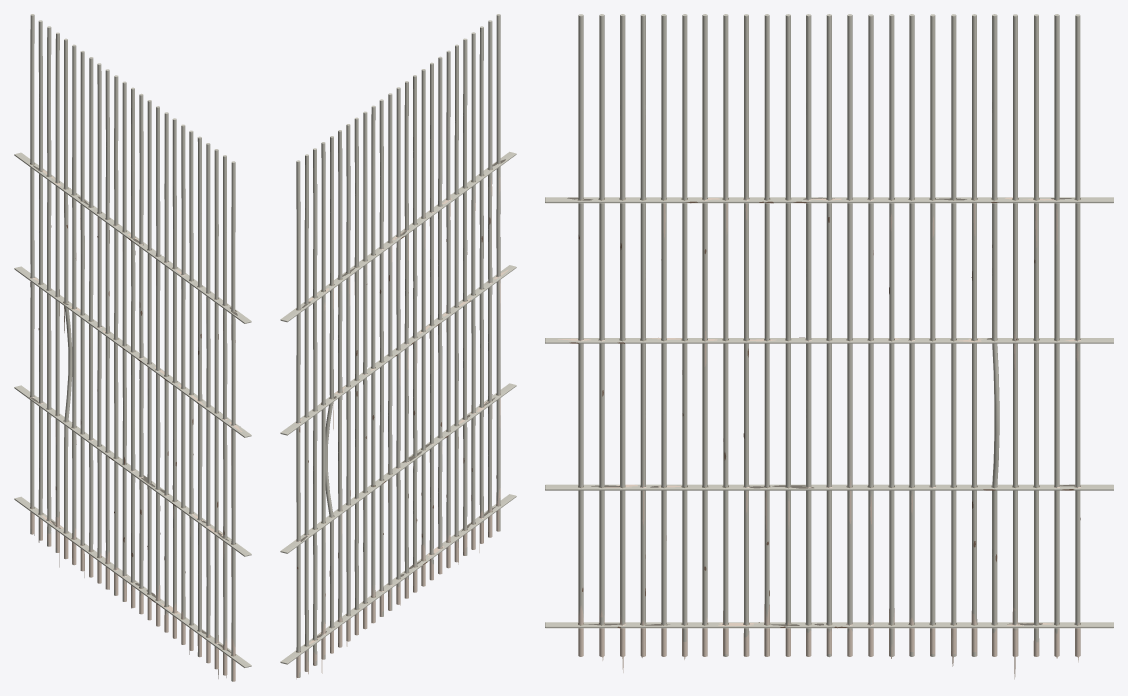
The model's file is bars_w3.glb.
The picture shows the model from 3 angles, left to right: view 1: azimuth 30°, elevation 25°; view 2: azimuth 150°, elevation 25°; view 3: azimuth 270°, elevation 25°; orthographic projection. The views are drawn at different scales.
Visible parts, largest first — view 1: teil, teil.002, teil.004; view 2: teil, teil.002, teil.004; view 3: teil, teil.002, teil.004.
Boxes of the visible parts, x1,y1,x2,y2 form: teil: [14, 14, 251, 681]; teil.002: [30, 170, 242, 681]; teil.004: [30, 163, 235, 656]; teil: [280, 14, 516, 677]; teil.002: [296, 176, 508, 679]; teil.004: [296, 162, 500, 652]; teil: [545, 14, 1113, 656]; teil.002: [558, 197, 1080, 679]; teil.004: [578, 198, 1080, 625].
Bounding box in the file's own units: 0.0884 × 4.26 × 3.3.
